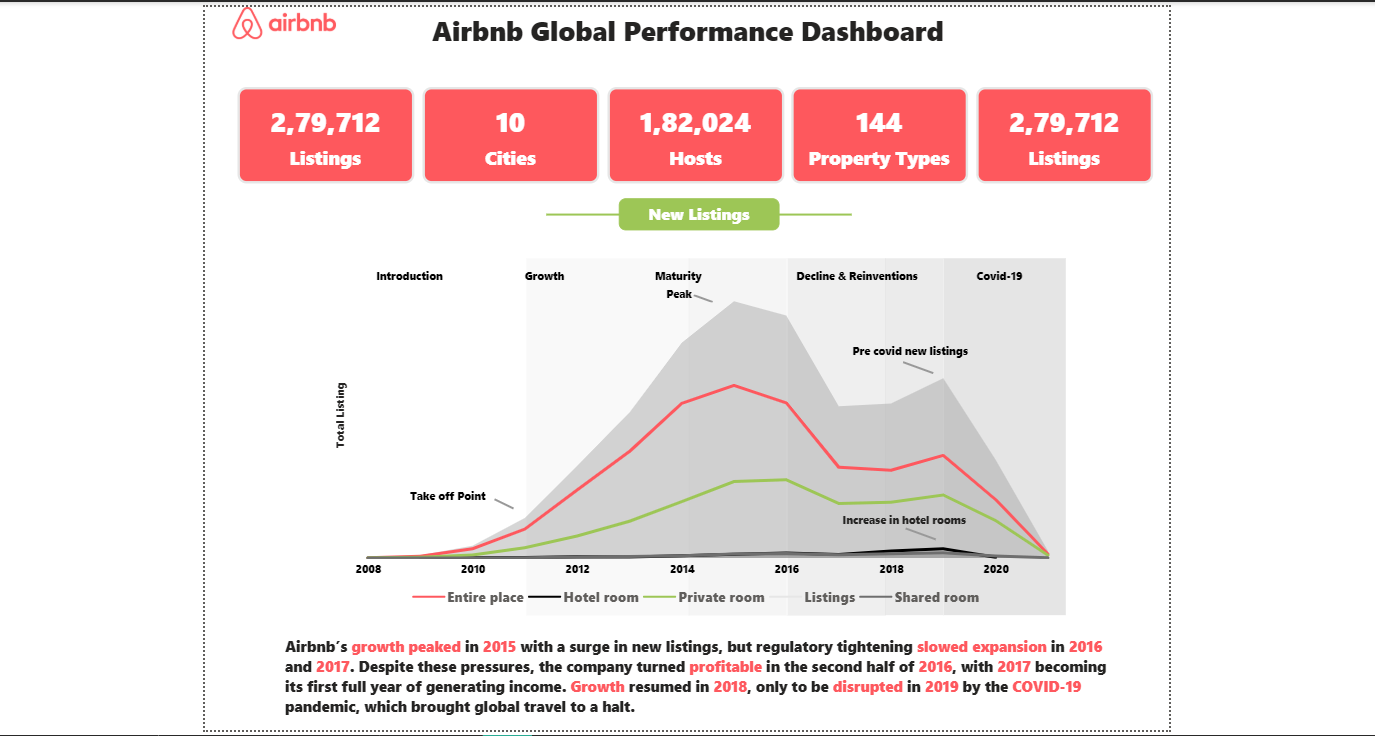

What the dashboard file says about the page in this screenshot:
{"tool":"powerbi","page":{"name":"Overview","canvas":[960,720],"ordinal":0},"visuals":[{"type":"textbox","box":[216,0,528,64],"z":0},{"type":"shape","box":[734.8,250.2,121.5,355.2],"z":0,"group":"g1"},{"type":"group","id":"g1","title":"Group 1","box":[124.4,250,731.4,355.8],"z":1000},{"type":"shape","box":[124.4,250,194.9,355.6],"z":1000,"group":"g1"},{"type":"image","box":[0,0,158,32.3],"z":2000},{"type":"shape","box":[339.2,198.3,304.1,17.6],"z":2000,"group":"g2"},{"type":"shape","box":[319.3,250,162.4,355.6],"z":2000,"group":"g1"},{"type":"lineChart","fields":{"Category":["Listings.host_since.Variation.Date Hierarchy.Year"],"Y":["Dax House.Entire place","Dax House.Hotel room","Dax House.Private room","CountNonNull(Listings.listing_id)","Dax House.Shared room"]},"box":[125.6,250,731.4,355.8],"z":3000},{"type":"shape","box":[481.7,250,97.4,355.6],"z":3000,"group":"g1"},{"type":"card","title":"Listings","fields":{"Values":["CountNonNull(Listings.listing_id)"]},"box":[32,80,176,96],"z":4000},{"type":"shape","box":[579.1,250,97.4,355.6],"z":4000,"group":"g1"},{"type":"card","title":"Listings","fields":{"Values":["Count(Listings.city)"]},"box":[216,80,176,96],"z":5000},{"type":"shape","box":[676.6,250.2,58.2,355.2],"z":5000,"group":"g1"},{"type":"card","title":"Listings","fields":{"Values":["Count(Listings.host_id)"]},"box":[400,80,176,96],"z":6000},{"type":"card","title":"Listings","fields":{"Values":["Count(Listings.property_type)"]},"box":[584,80,176,96],"z":7000},{"type":"card","title":"Listings","fields":{"Values":["CountNonNull(Listings.listing_id)"]},"box":[768,80,176,96],"z":8000},{"type":"group","id":"g2","title":"Group 3","box":[339.2,190.8,304.1,32],"z":9000},{"type":"textbox","box":[411.4,190.8,160,32],"z":10000,"group":"g2"},{"type":"textbox","box":[74.8,620.9,837.8,99.7],"z":10000},{"type":"textbox","box":[159.7,252.3,88.4,33.7],"z":11000},{"type":"textbox","box":[199,470.9,98.6,32.5],"z":11000,"group":"g3"},{"type":"textbox","box":[426.4,252.3,88.4,33.7],"z":12000},{"type":"shape","box":[286.9,487,20.5,16.2],"z":12000,"group":"g3"},{"type":"textbox","box":[583.6,252.9,141.6,33.7],"z":13000},{"type":"textbox","box":[454.5,270,51.4,32.5],"z":13000,"group":"g3"},{"type":"textbox","box":[746.4,252.3,88.4,33.7],"z":14000},{"type":"shape","box":[480.2,286.2,31.2,8.1],"z":14000,"group":"g3"},{"type":"group","id":"g3","title":"Group 2","box":[199,270,579.7,262],"z":15000},{"type":"textbox","box":[639.8,326.8,138.8,32.5],"z":15000,"group":"g3"},{"type":"textbox","box":[293.1,252.3,88.4,33.7],"z":16000},{"type":"shape","box":[693.7,351.5,31.2,16.2],"z":16000,"group":"g3"},{"type":"textbox","box":[629.4,495.3,138.8,32.5],"z":17000,"group":"g3"},{"type":"shape","box":[696.8,515.7,31.2,16.2],"z":18000,"group":"g3"}]}

Visuals, with their boxes on the page's 960x720 design canvas (x1, y1, x2, y2). These are canvas units, not pixel positions in the 1375x736 screenshot, which may show the page scaled, cropped or inside an application window:
textbox: (216, 0, 744, 64)
shape: (735, 250, 856, 605)
"Group 1" group: (124, 250, 856, 606)
shape: (124, 250, 319, 606)
image: (0, 0, 158, 32)
shape: (339, 198, 643, 216)
shape: (319, 250, 482, 606)
lineChart - Listings.host_since.Variation.Date Hierarchy.Year x Dax House.Entire place: (126, 250, 857, 606)
shape: (482, 250, 579, 606)
"Listings" card: (32, 80, 208, 176)
shape: (579, 250, 676, 606)
"Listings" card: (216, 80, 392, 176)
shape: (677, 250, 735, 605)
"Listings" card: (400, 80, 576, 176)
"Listings" card: (584, 80, 760, 176)
"Listings" card: (768, 80, 944, 176)
"Group 3" group: (339, 191, 643, 223)
textbox: (411, 191, 571, 223)
textbox: (75, 621, 913, 721)
textbox: (160, 252, 248, 286)
textbox: (199, 471, 298, 503)
textbox: (426, 252, 515, 286)
shape: (287, 487, 307, 503)
textbox: (584, 253, 725, 287)
textbox: (454, 270, 506, 302)
textbox: (746, 252, 835, 286)
shape: (480, 286, 511, 294)
"Group 2" group: (199, 270, 779, 532)
textbox: (640, 327, 779, 359)
textbox: (293, 252, 382, 286)
shape: (694, 352, 725, 368)
textbox: (629, 495, 768, 528)
shape: (697, 516, 728, 532)
